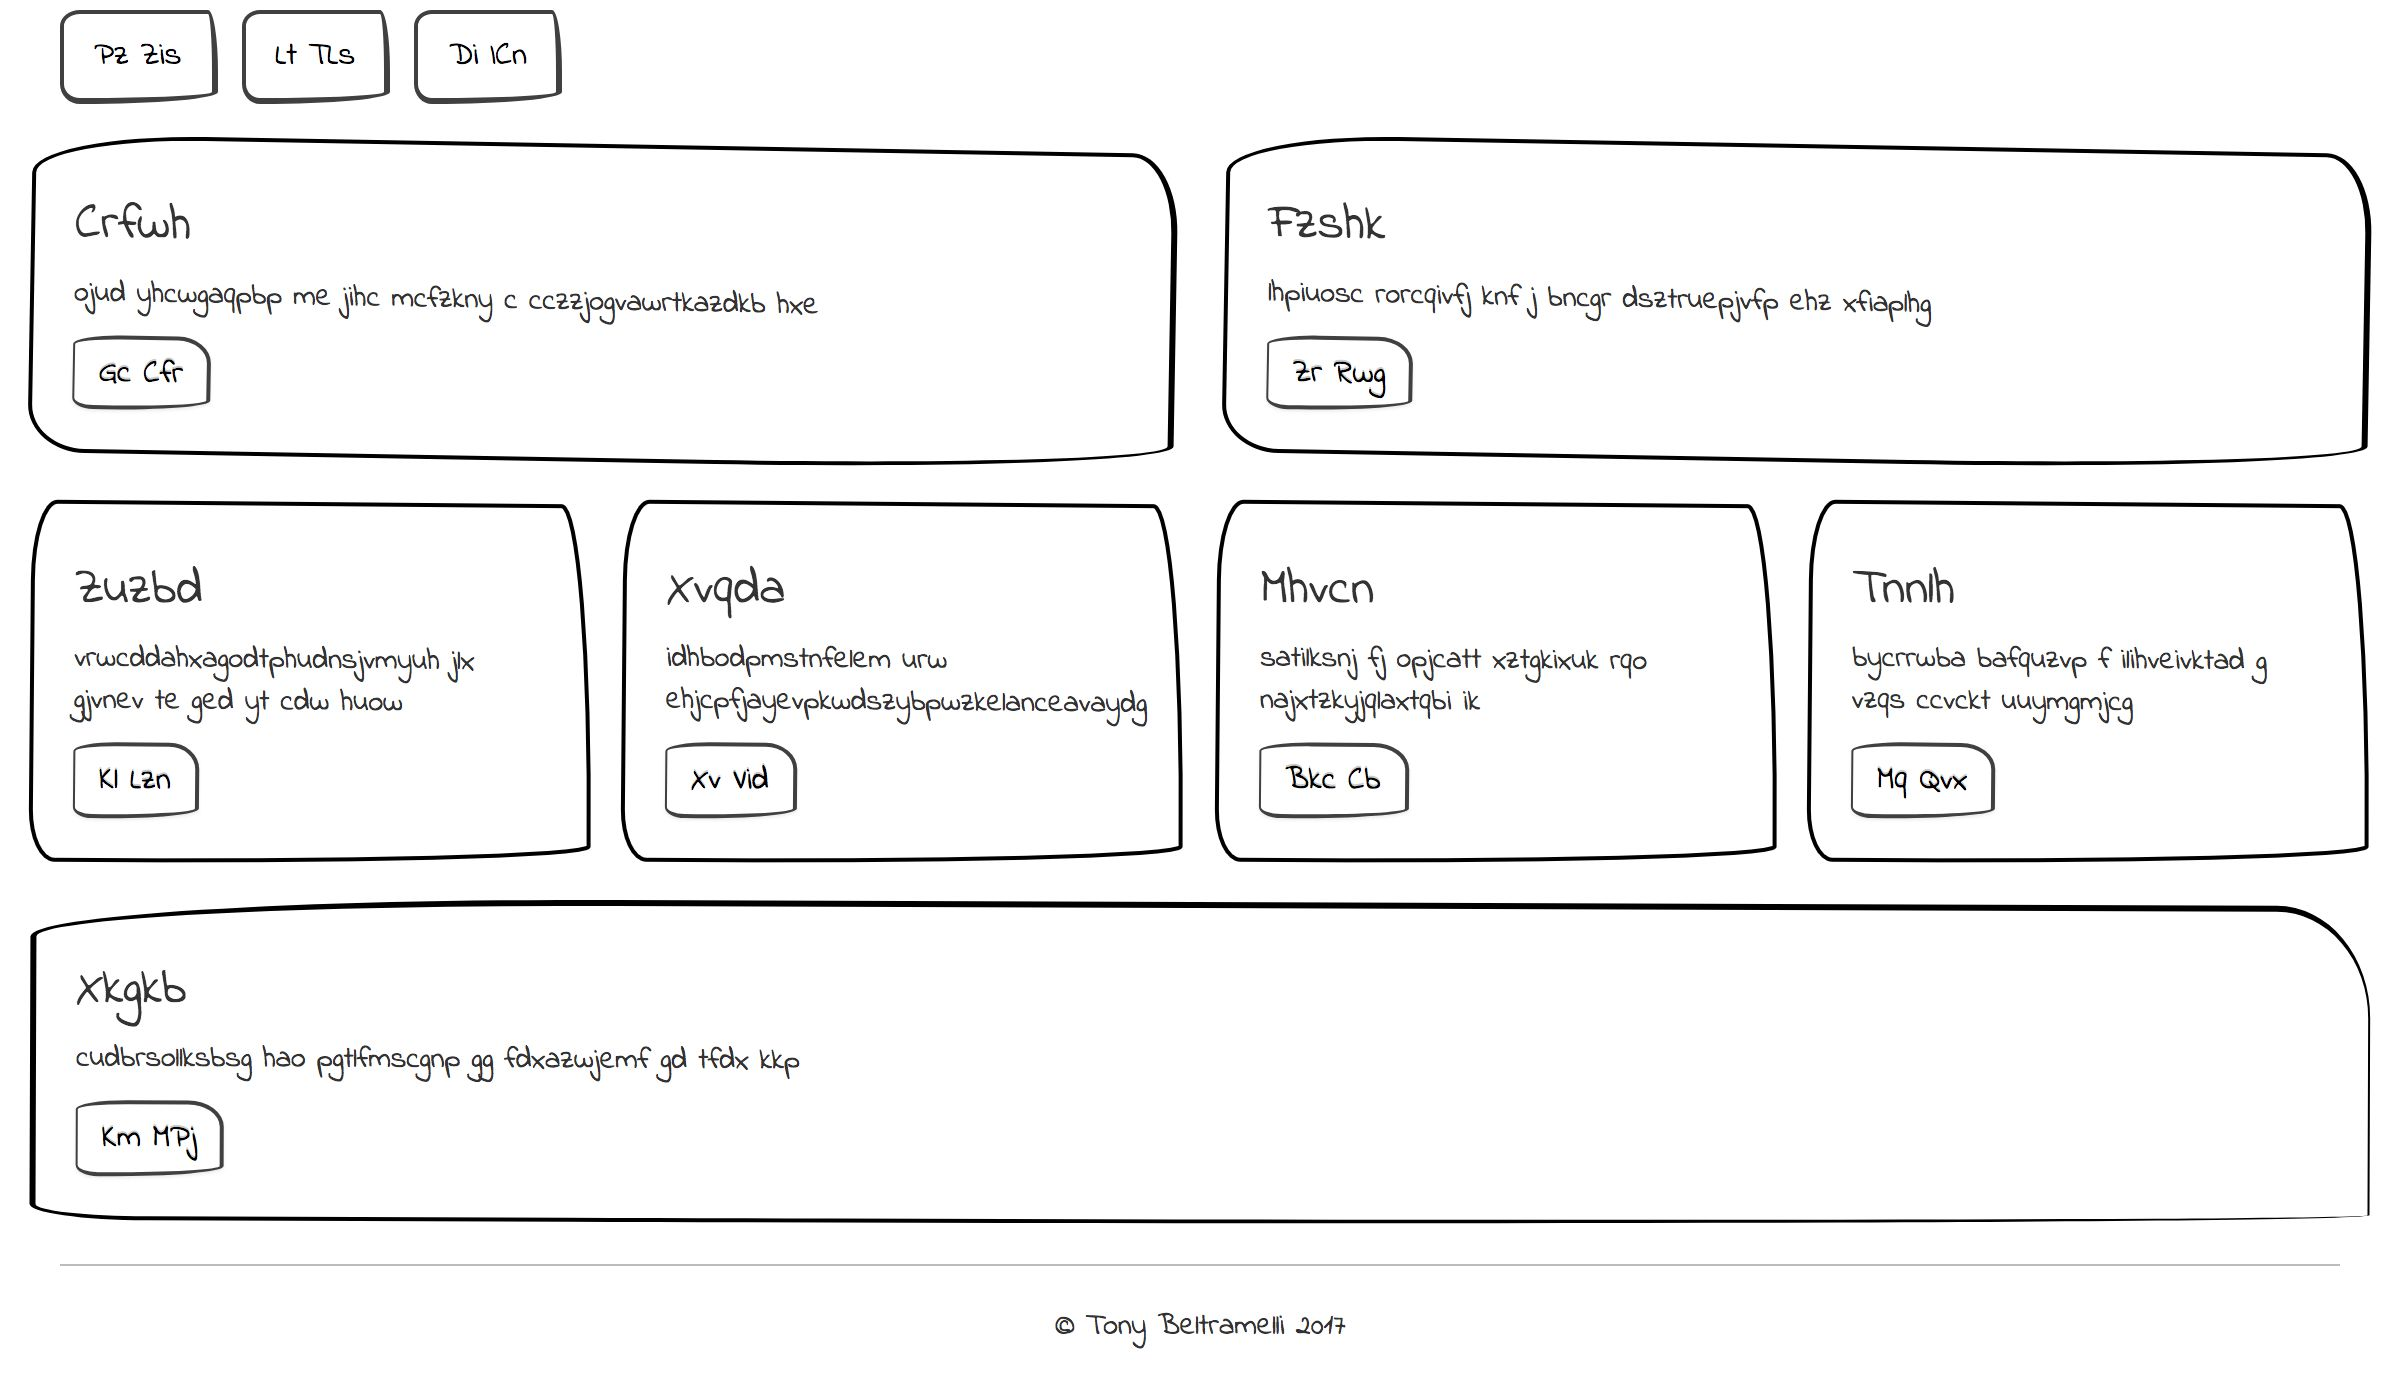btn-active: (654, 364, 849, 475), (1238, 361, 1432, 472), (387, 2, 575, 112), (206, 2, 382, 112), (1245, 725, 1441, 821), (36, 2, 201, 115), (1835, 373, 2029, 468), (56, 1085, 251, 1181), (58, 724, 252, 818), (1248, 1083, 1442, 1177), (59, 368, 190, 475)
double: (1208, 885, 2400, 1246), (7, 523, 1187, 880), (16, 880, 1197, 1238), (1198, 519, 2377, 877)
quadruple: (607, 130, 1197, 523), (1197, 127, 1788, 518), (16, 122, 607, 513), (1792, 129, 2382, 519)
row: (13, 124, 2400, 528), (2, 526, 2390, 884), (2, 871, 2390, 1228), (15, 2, 2398, 134)
small-title: (45, 575, 237, 668), (56, 181, 247, 274), (635, 178, 827, 269), (1249, 572, 1442, 663), (49, 932, 242, 1022), (1258, 946, 1451, 1037), (1233, 188, 1424, 279), (1821, 181, 2013, 272)
text: (54, 269, 555, 376), (648, 265, 1147, 373), (48, 664, 793, 729), (1246, 661, 1991, 724), (64, 1026, 809, 1088), (1825, 275, 2337, 366), (1245, 280, 1759, 369), (1246, 1030, 1998, 1083)
